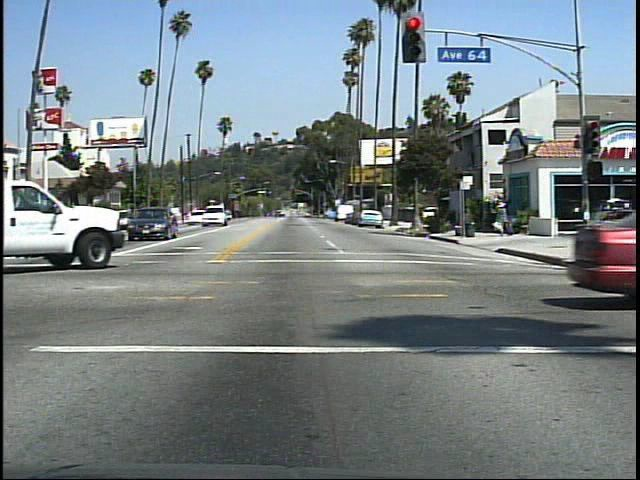person: (493, 196, 515, 238)
